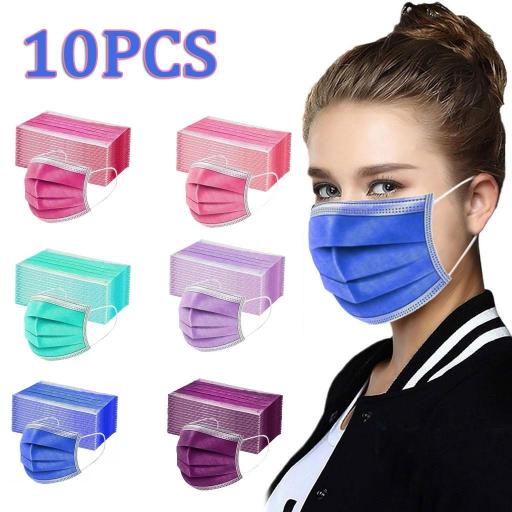mask: (308, 194, 461, 330)
